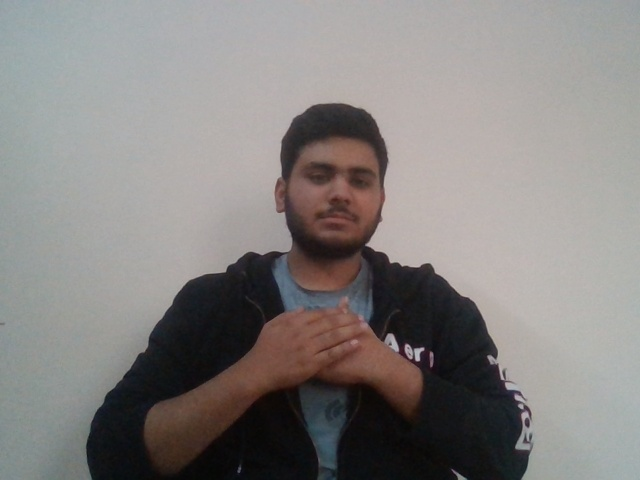Please: (244, 303, 386, 383)
